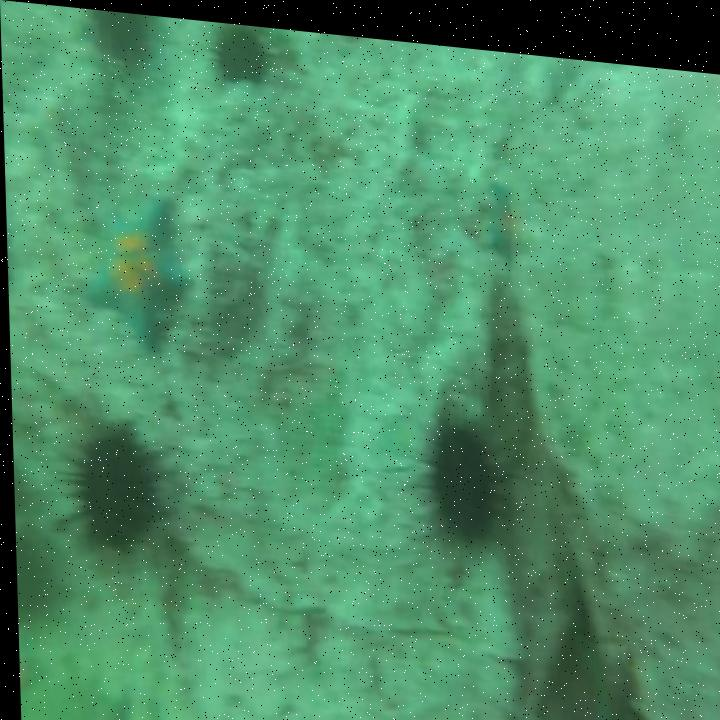echinus: (74, 433, 152, 548), (429, 410, 494, 537), (216, 26, 264, 82)
starfish: (81, 193, 192, 351), (487, 171, 515, 248)
